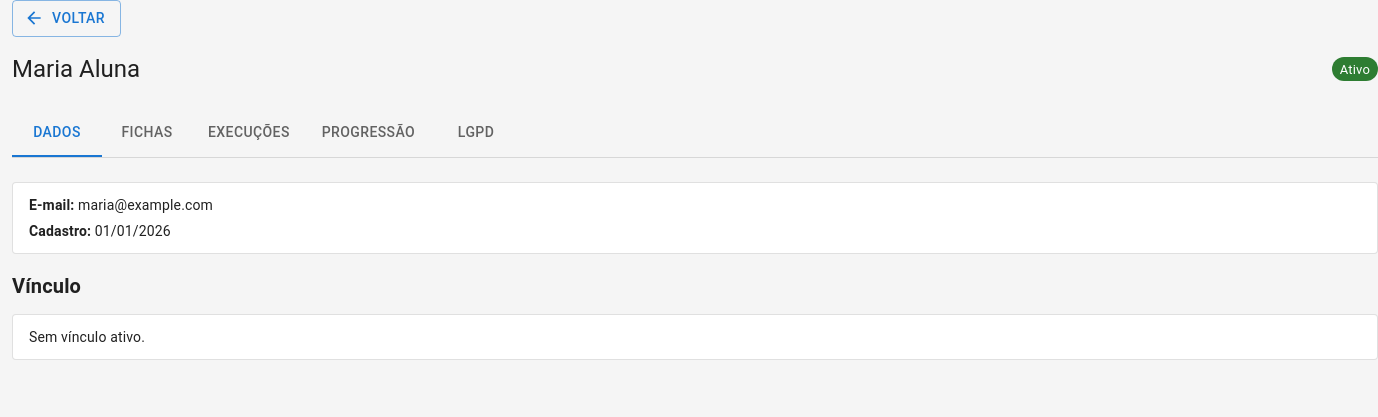
Test: DetalheAlunoAdminPage — abas Fichas e Execuções › aba Execuções sem execuções mostra o EmptyState
This screenshot has width=1378, height=417.
Click the tab "Execuções" at (249, 132), box [192, 108, 306, 156]
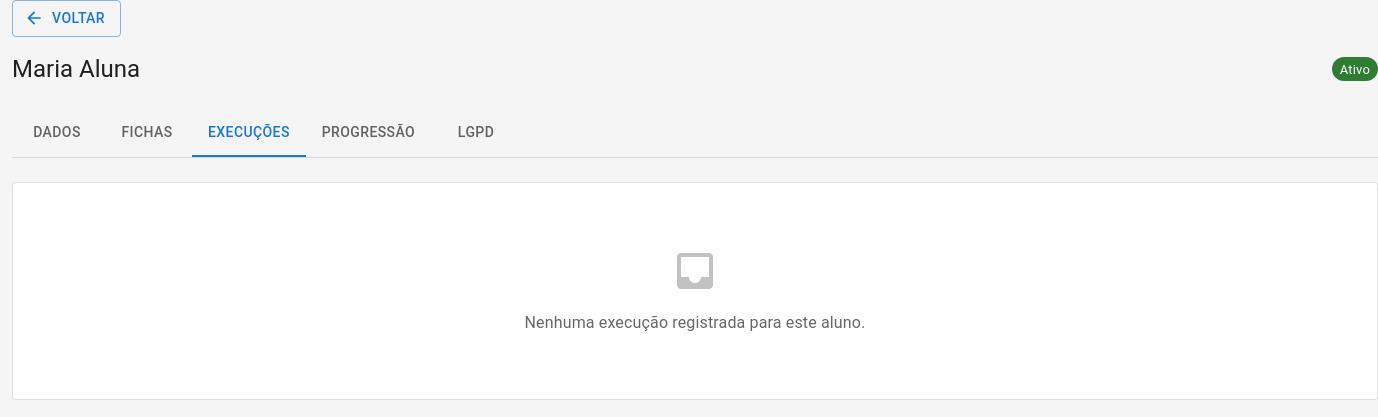
Check: the text "Nenhuma execução registrada para este aluno." is shown, box [524, 310, 865, 334]
